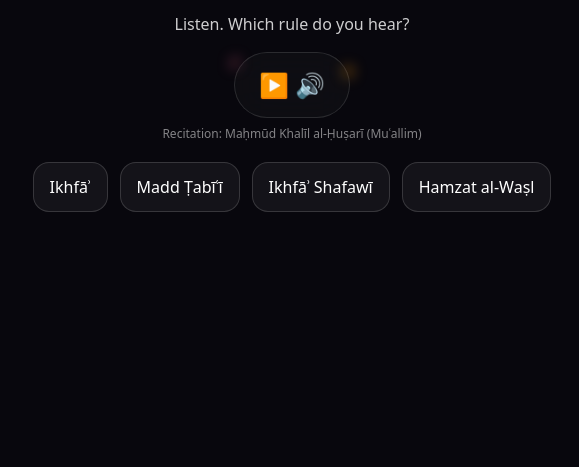
it: ListenIdentify › reveals the text, coloured and referenced, after answering
Step 1. Click the button "Ikhfāʾ" → click(70, 187), box x1=32 y1=162 x2=108 y2=212
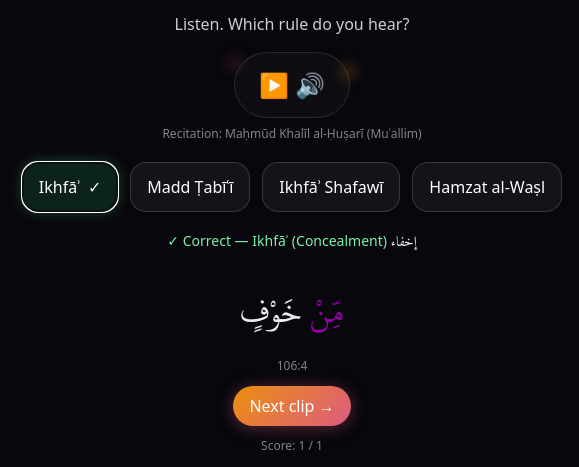
Expected: the picture labelled "مِّنْ خَوْفٍ" is shown, x1=240 y1=280 x2=344 y2=343
Expected: the text "مِّن" is shown, x1=310 y1=280 x2=344 y2=343
Expected: the text "106:4" is shown, x1=277 y1=357 x2=307 y2=374
